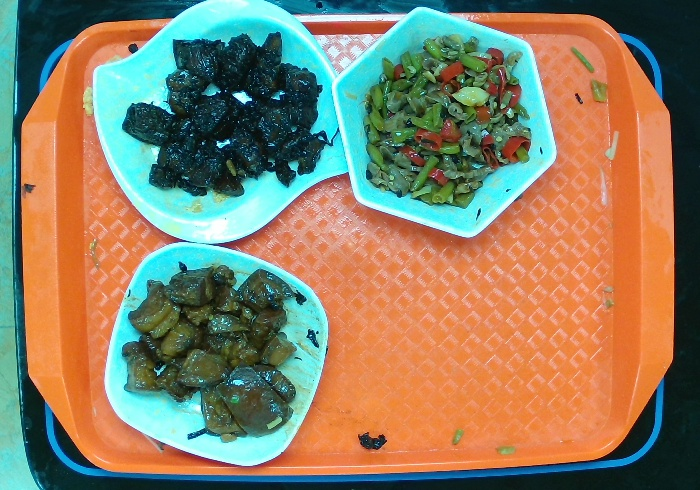RJxy-Liu_Jiao_Wan: (329, 2, 562, 246)
RJxy-Shuang_Jiao_Pan: (87, 1, 353, 247)
RJxy-Si_Fang_Wan: (98, 237, 333, 469)
